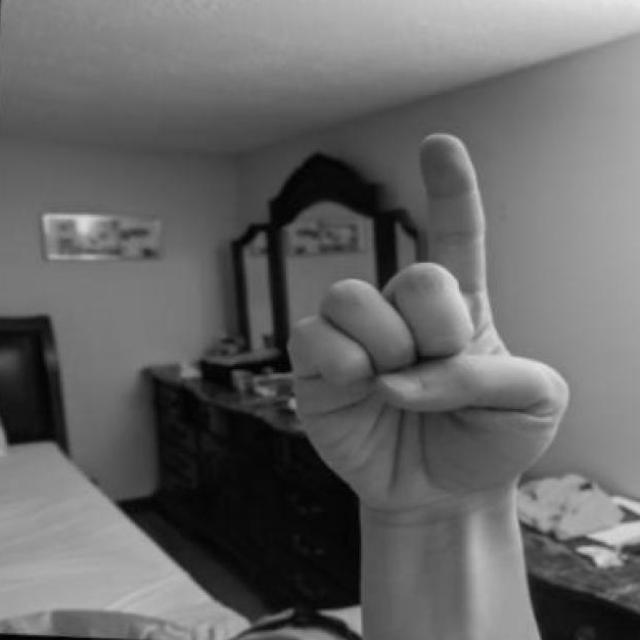D: (270, 123, 592, 532)
